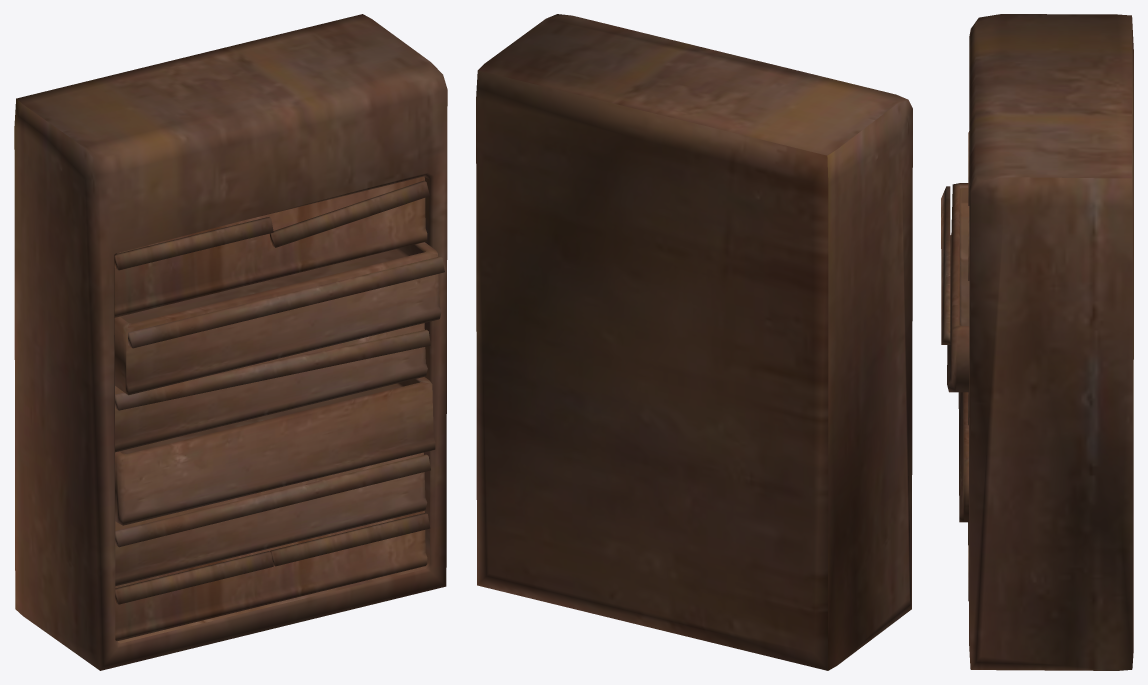
File: toolbox_junk.glb
3 views of the same model, side by side, from view 1: azimuth 30°, elevation 25°; view 2: azimuth 150°, elevation 25°; view 3: azimuth 270°, elevation 25° (orthographic). The views are drawn at different scales.
Parts seen in each view (by area): view 1: toolBox_junk; view 2: toolBox_junk; view 3: toolBox_junk.
Boxes of the visible parts, left/top/right/bottom form: toolBox_junk: left=14, top=14, right=447, bottom=670; toolBox_junk: left=476, top=14, right=912, bottom=670; toolBox_junk: left=941, top=14, right=1133, bottom=670.
Bounding box in the file's own units: 1.23 × 1.72 × 0.6066.
Materials: 1 (1 with a texture image).
